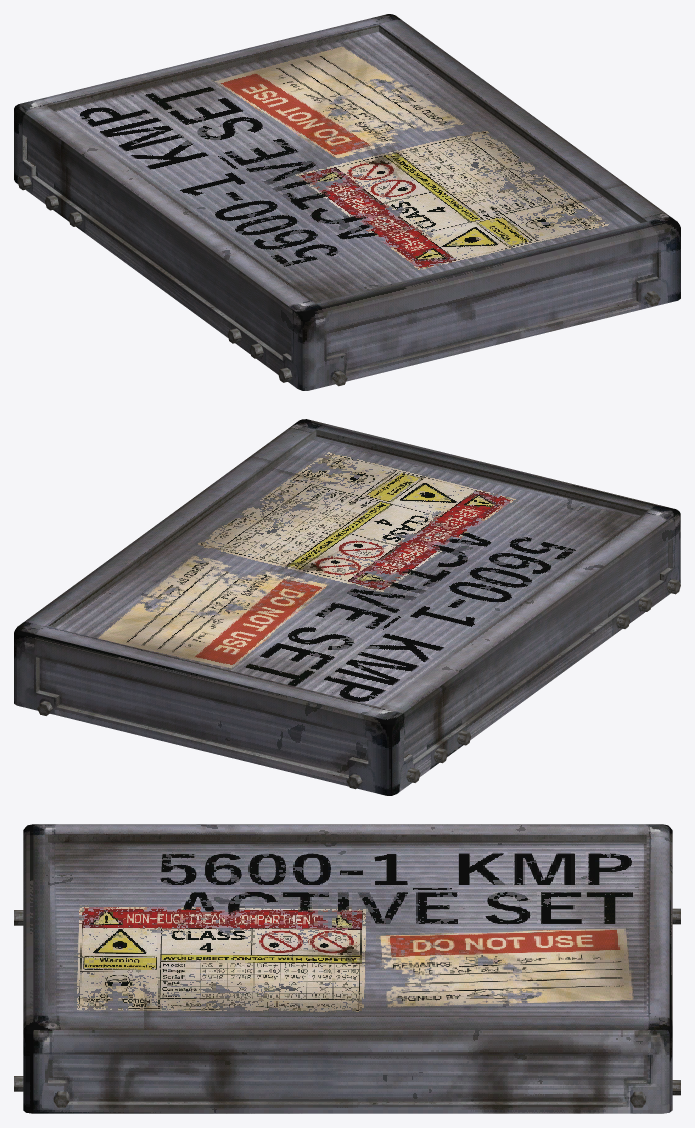
File: mp_item briefcase lid with timeout display1.glb
3 renders of one model, top to bottom at view 1: azimuth 30°, elevation 25°; view 2: azimuth 150°, elevation 25°; view 3: azimuth 270°, elevation 25°, orthographic. The views are drawn at different scales.
Parts seen in each view (by area): view 1: Cube_025; view 2: Cube_025; view 3: Cube_025.
Part boxes in pixels (<box>): Cube_025: <box>14,14,680,390</box>; Cube_025: <box>14,419,680,795</box>; Cube_025: <box>14,824,680,1113</box>.
Bounding box in the file's own units: 2.58 × 0.4712 × 3.37.
Materials: 6 (4 with a texture image).
